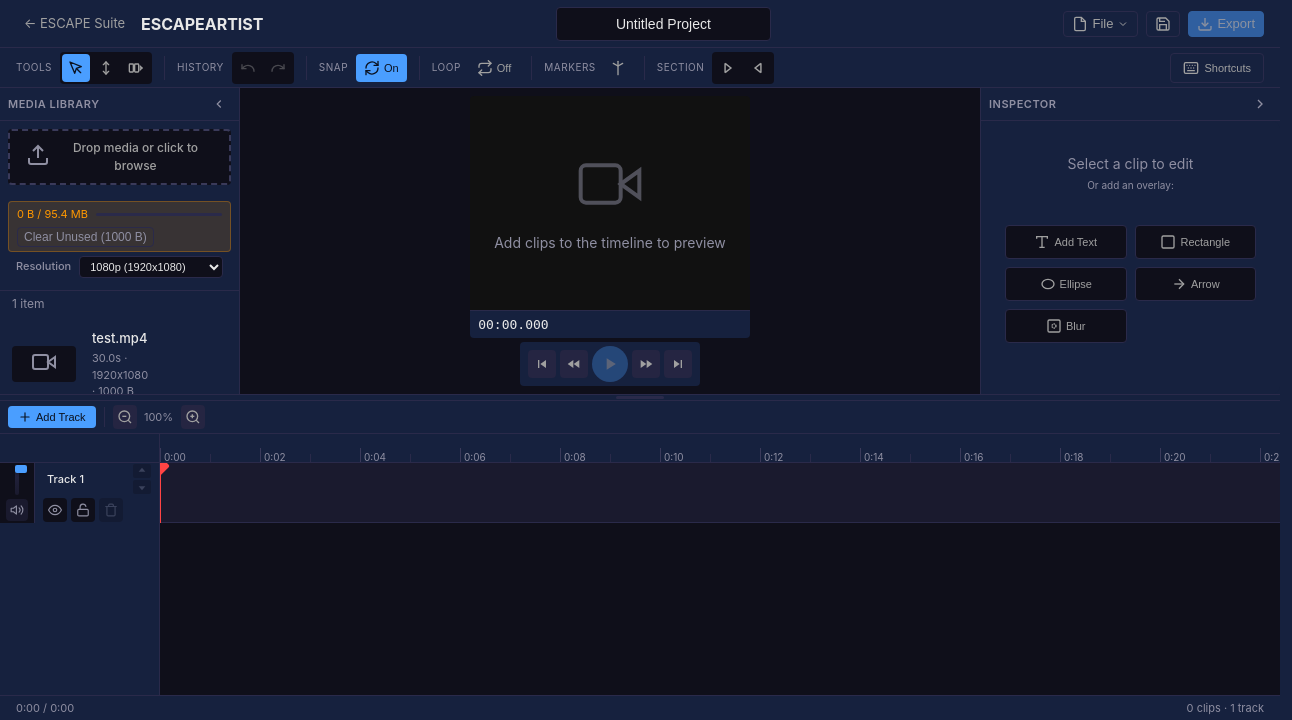
it: App project lifecycle › the File menu › will not export an empty timeline
Click the button with aria-label "File menu". click: (1101, 24)
box: [1064,10,1138,36]
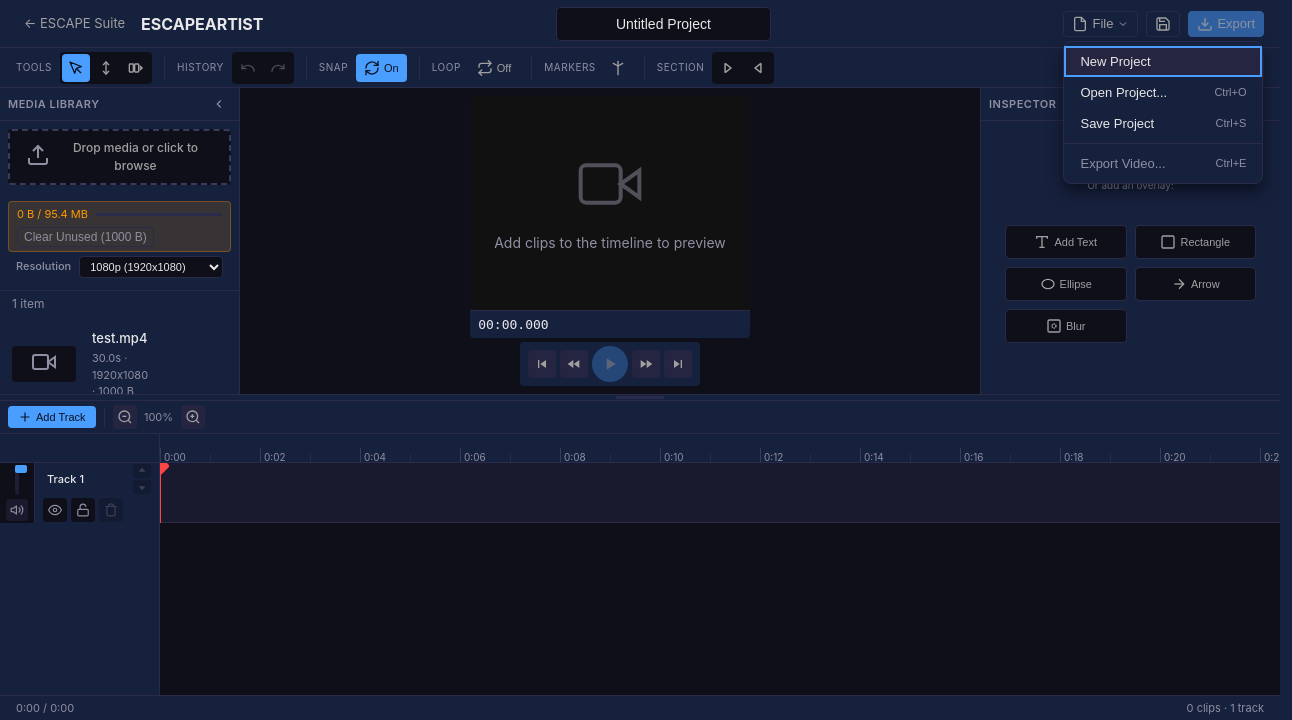
Check: the menu item "Export Video... Ctrl+E" is disabled, box [1064,148,1262,178]
